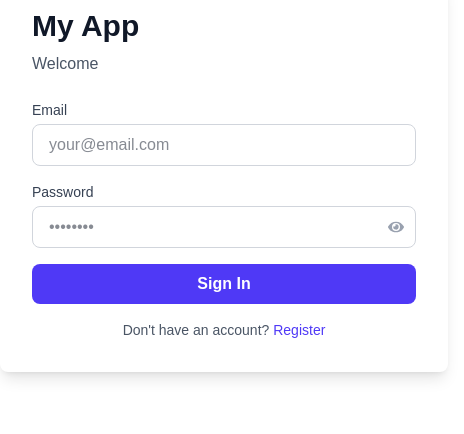
Scenario: LoginForm › displays fallback error when server is unreachable
The width and height of the screenshot is (464, 434).
Type "user@example.com" into the field with placeholder "your@email.com".
click(224, 145); type("user@example.com")  # box [32,124,416,166]
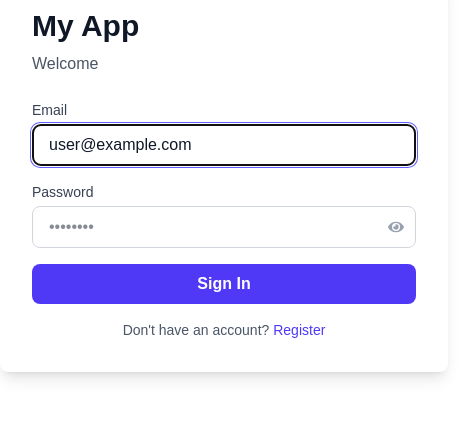
Type "password123" into the password field with placeholder "••••••••".
click(224, 227); type("password123")  # box [32,206,416,248]
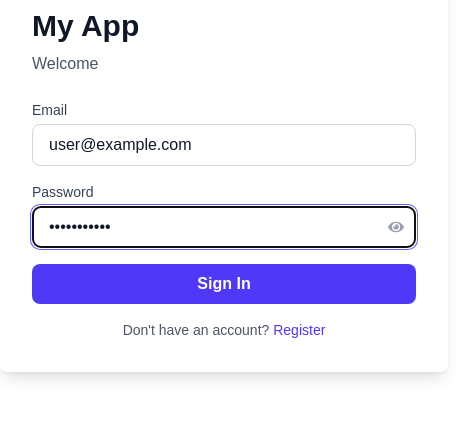
Click the button "Sign In".
click(224, 284)  # box [32,264,416,304]
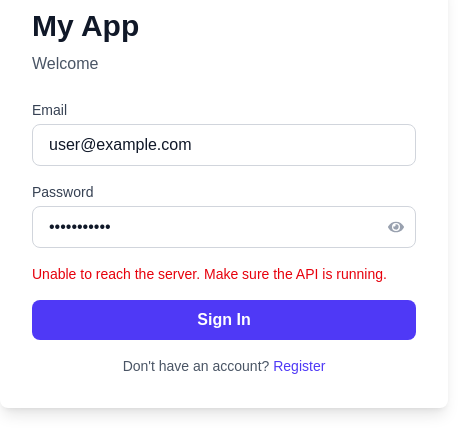
Expected: the text "Unable to reach the server. Make sure the API is running." is shown, [32,264,416,284]
